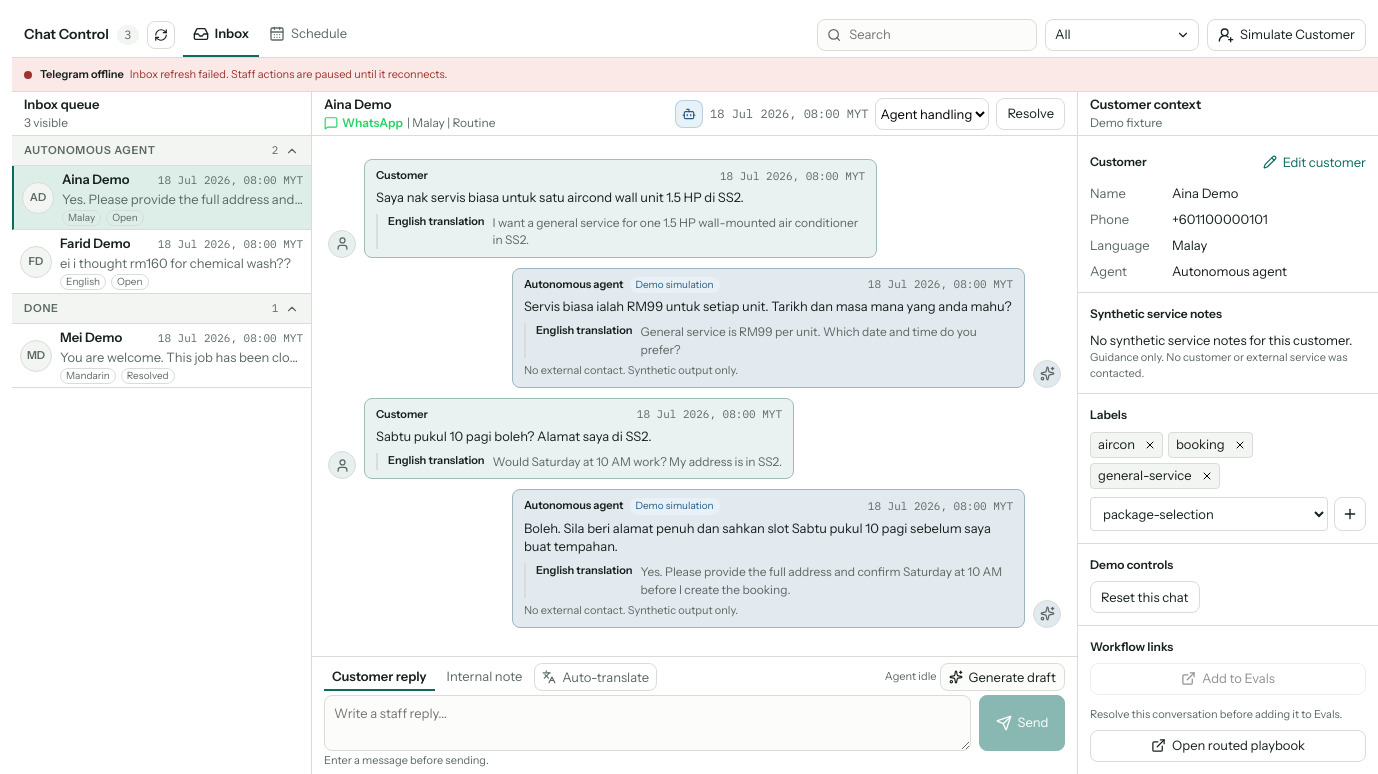
Test case: Chat Control route › shows clear English translations and previews auto-translated staff replies
Click the button with aria-label "Open conversation with Aina Demo" at {"x": 162, "y": 198}, box [12, 166, 311, 230]
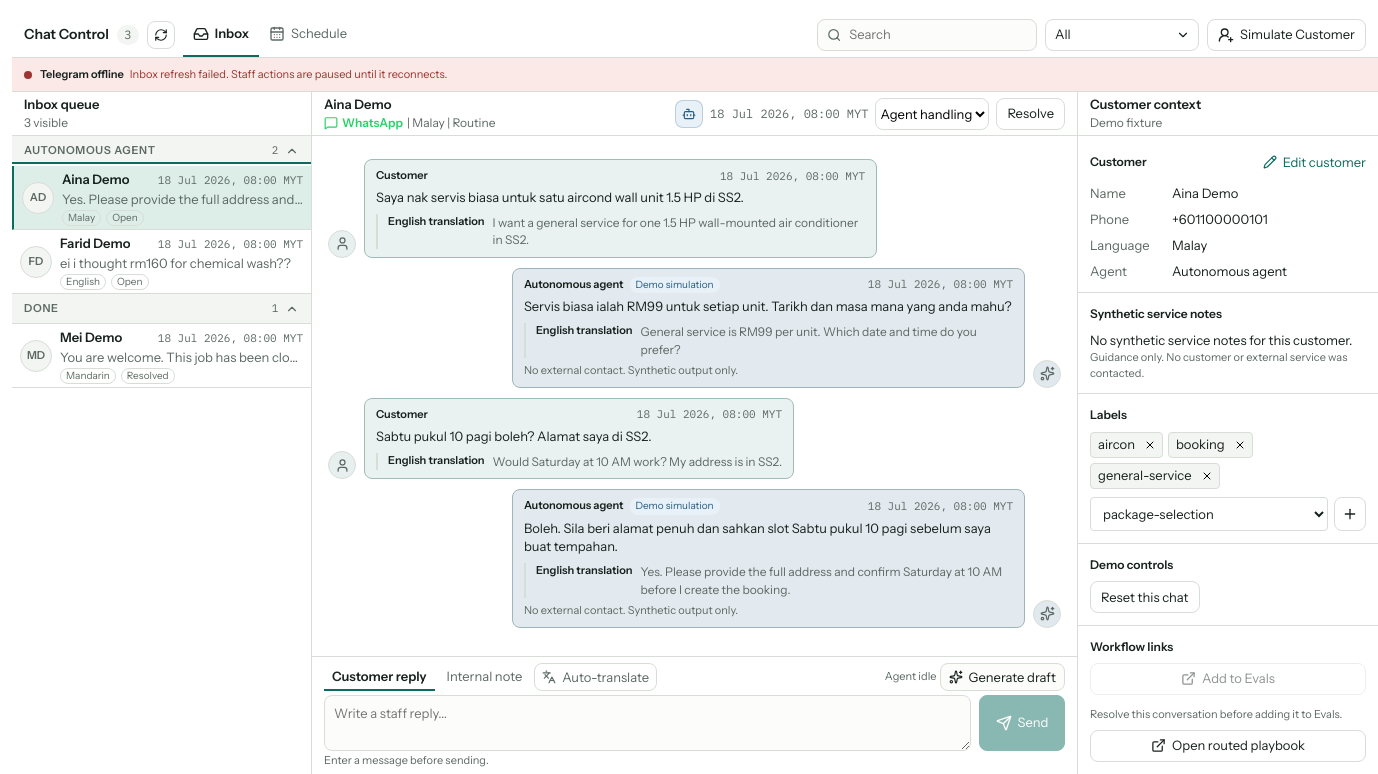
Expected: the text "Saya nak servis biasa untuk satu aircond wall unit 1.5 HP di SS2." is shown, [376, 189, 744, 205]
Click the button "Auto-translate" at {"x": 596, "y": 677}, box [534, 663, 657, 691]
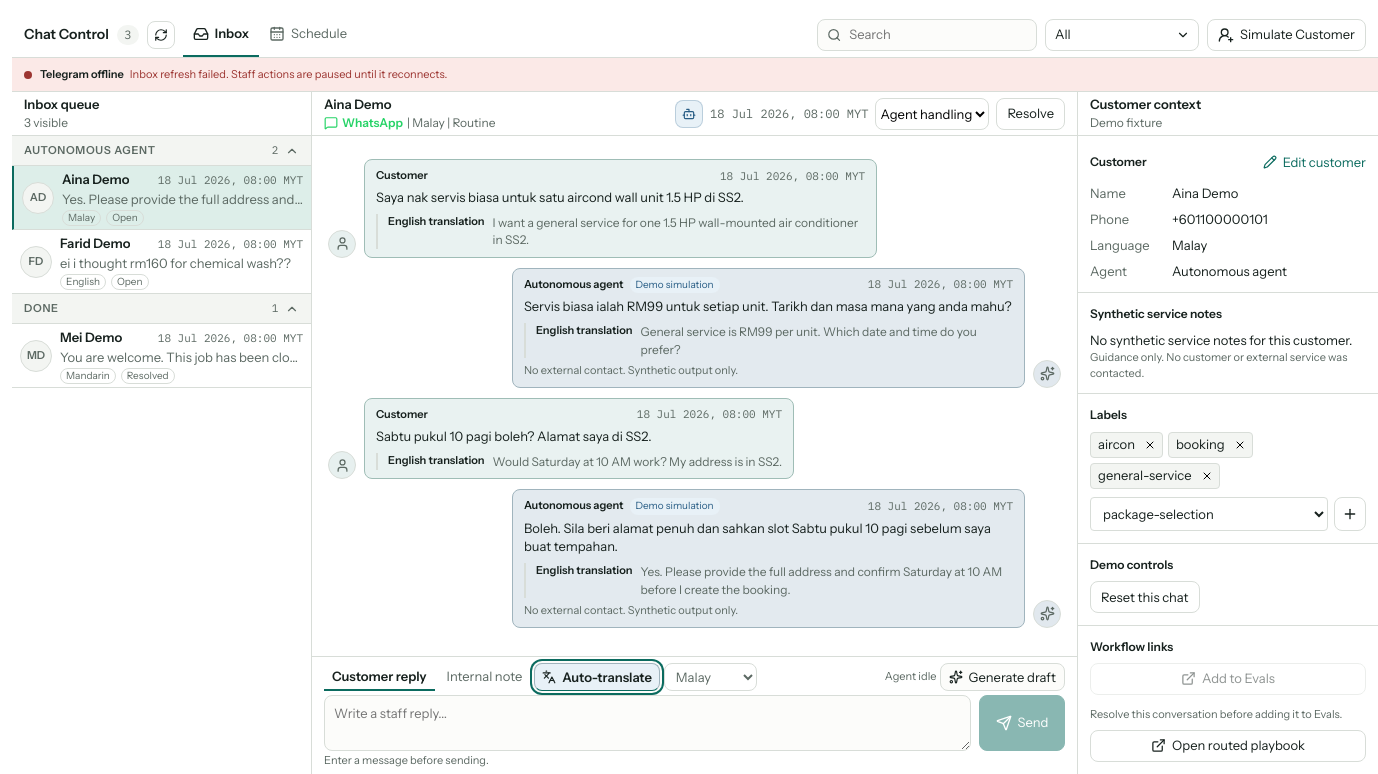
Expected: the dropdown named "Translation language" shows "Malay", [664, 663, 757, 691]
Type "Please bring your identity card fifteen minutes before arrival." into the text box named "Message" at {"x": 648, "y": 723}, box [324, 695, 971, 751]
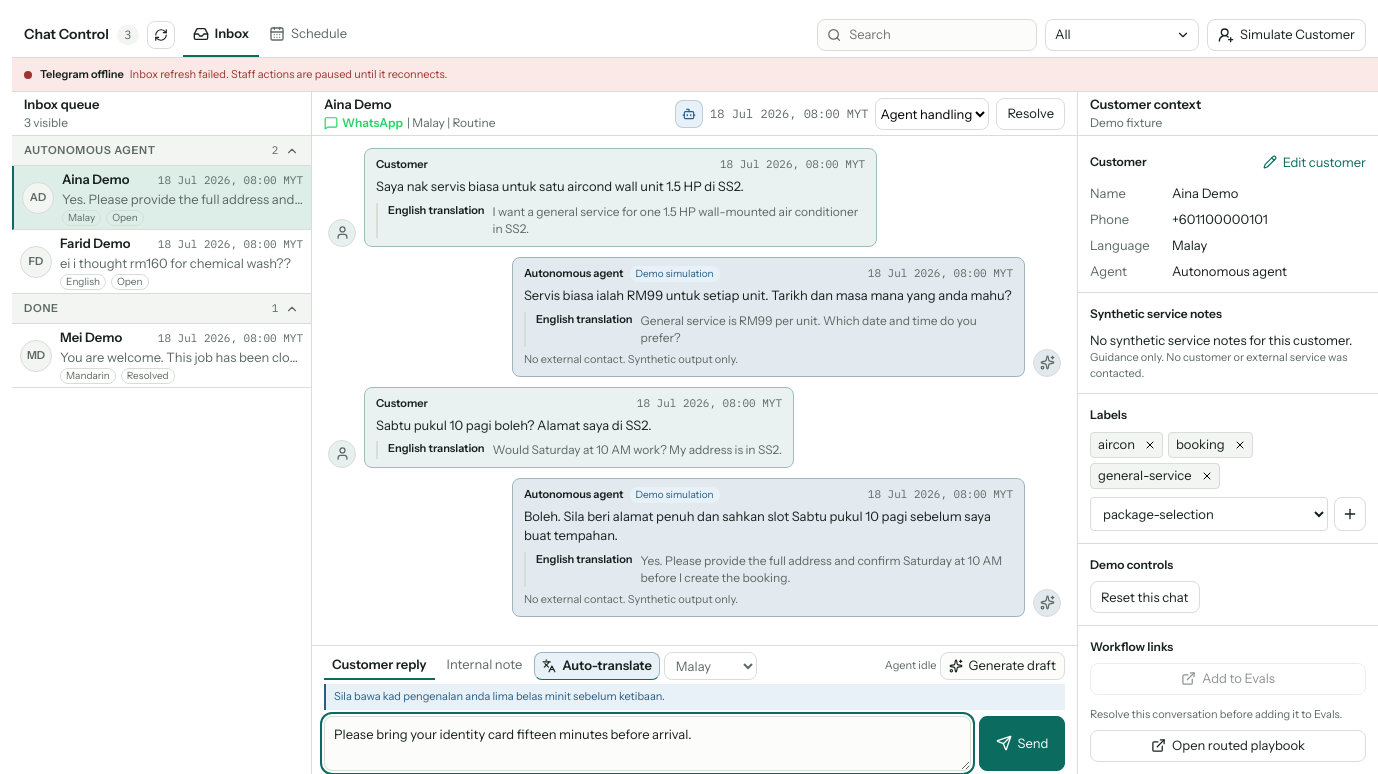
Expected: the message named "Translation preview" reads "Sila bawa kad pengenalan anda lima belas minit sebelum ketibaan.", [334, 689, 665, 703]
Click the button "Send" at {"x": 1022, "y": 743}, box [979, 716, 1065, 771]
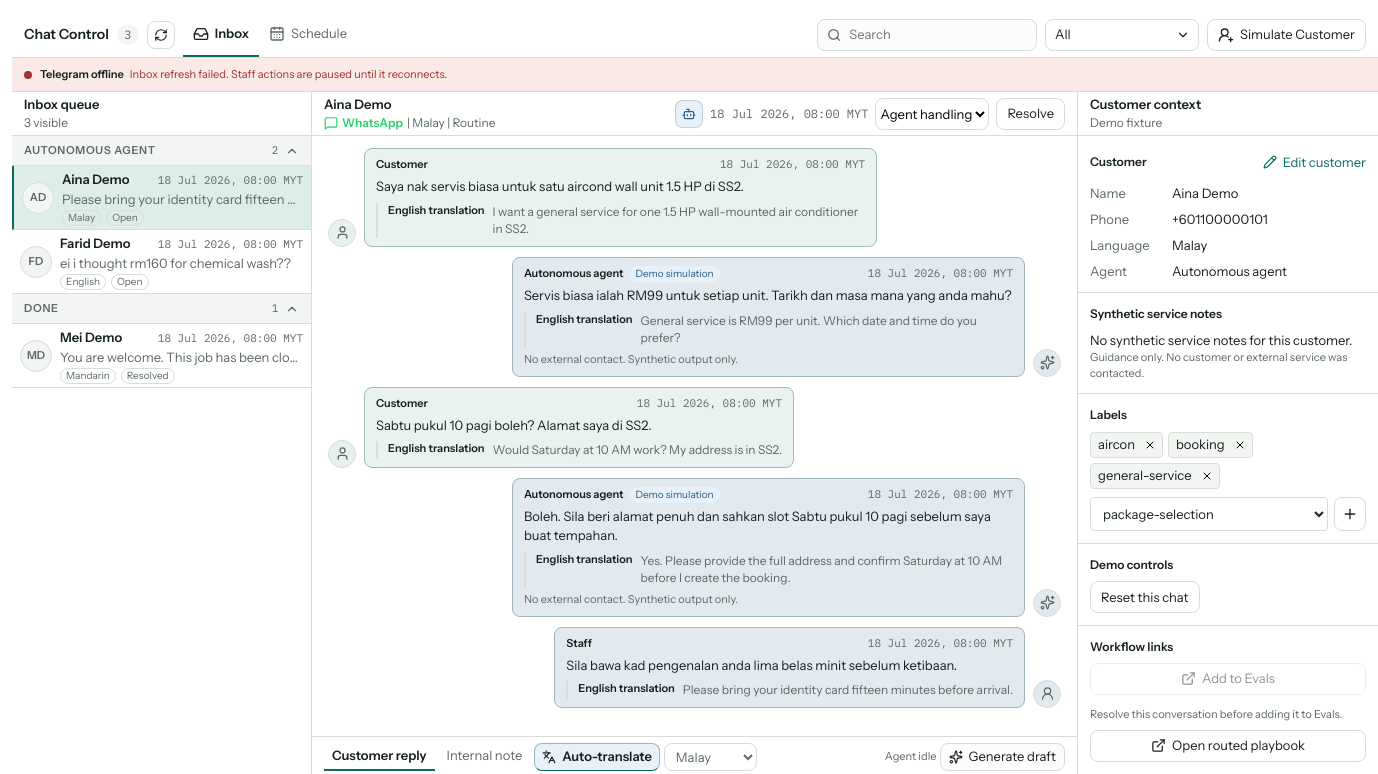
Expected: the text "Sila bawa kad pengenalan anda lima belas minit sebelum ketibaan." is shown, [566, 656, 1013, 674]
Expected: the 2nd text "Please bring your identity card fifteen minutes before arrival." is shown, [683, 682, 1013, 699]
